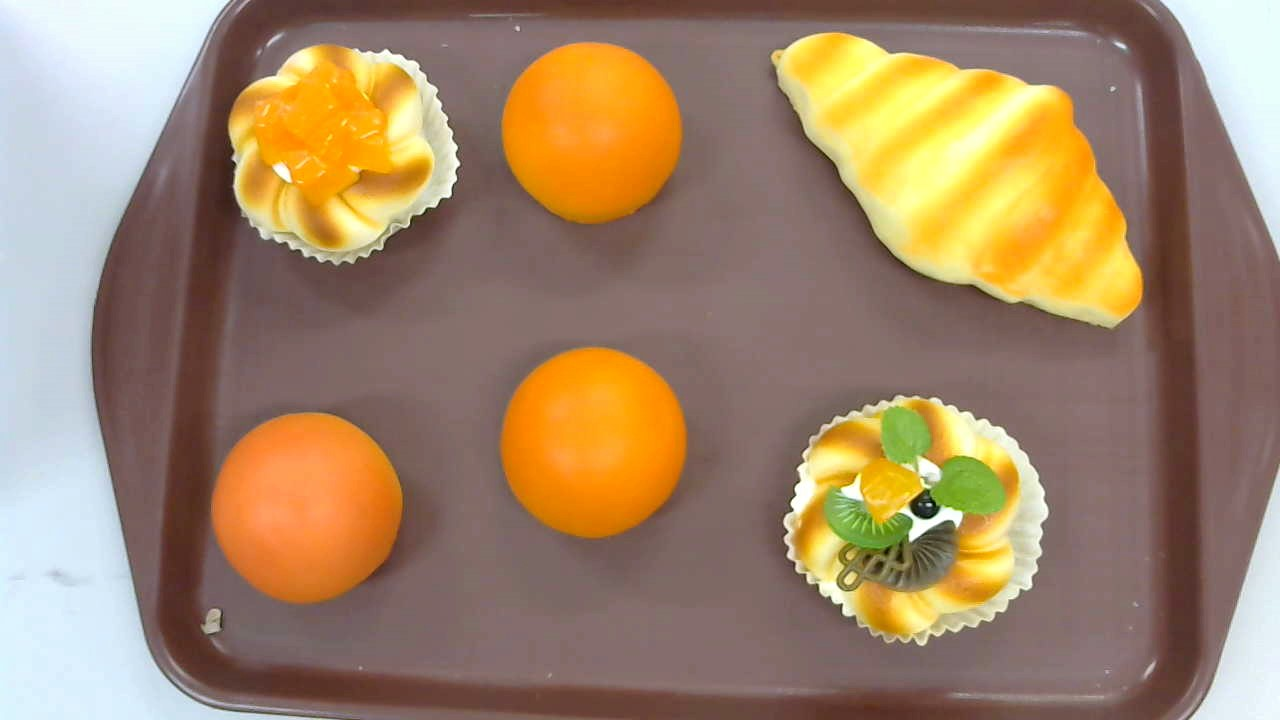bun: (212, 412, 402, 604), (499, 346, 687, 538), (500, 42, 682, 223)
croissant: (769, 32, 1143, 328)
fruit tart: (781, 393, 1050, 647)
mango tart: (228, 44, 461, 267)
